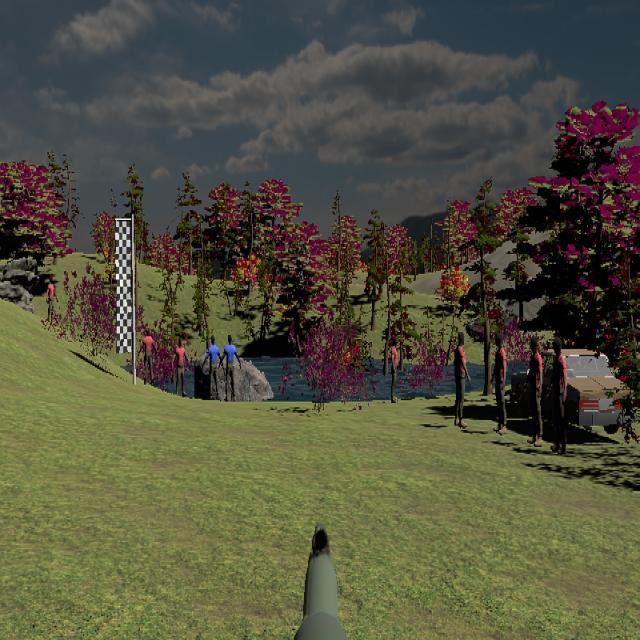Human: (547, 339, 569, 452), (525, 337, 544, 445), (527, 335, 545, 448), (489, 331, 507, 433), (454, 331, 472, 428), (220, 333, 241, 403), (203, 335, 223, 400), (138, 328, 157, 386), (172, 337, 190, 398), (45, 276, 58, 330)
car: (527, 347, 632, 434)
